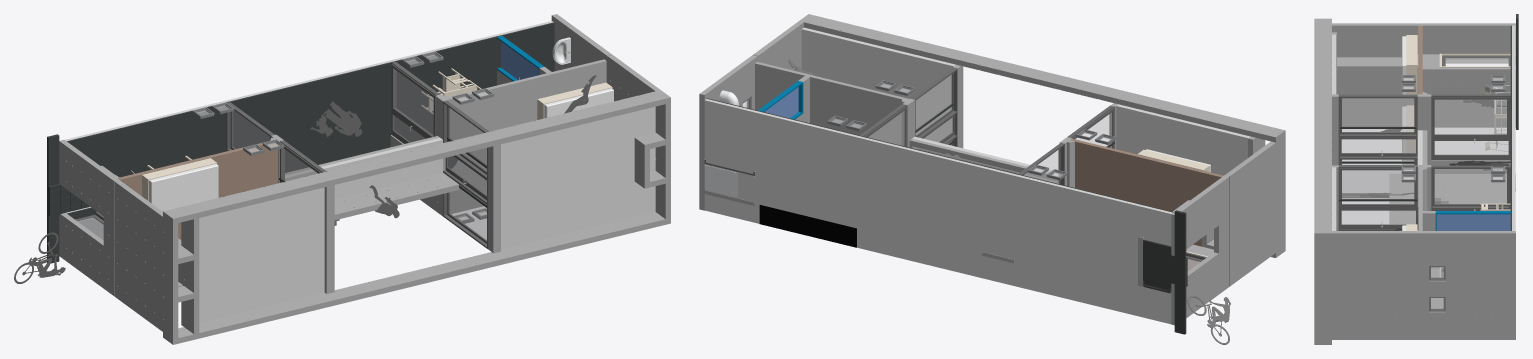
The model's file is casa.glb.
3 views of the same model, side by side, from view 1: azimuth 30°, elevation 25°; view 2: azimuth 150°, elevation 25°; view 3: azimuth 270°, elevation 25° (orthographic). The views are drawn at different scales.
Visible parts, largest first — view 1: TOITURES, NIVEAU 1, Dalle_001 (×3), NIVEAU 0, Body (×2); view 2: Dalle_001 (×3), NIVEAU 1, TOITURES, NIVEAU 0, Body; view 3: NIVEAU 0, NIVEAU 1, TOITURES, Body (×4), Dalle_001 (×3).
Boxes of the visible parts, x1,y1,x2,y2 form: TOITURES: (163, 90, 670, 344); NIVEAU 1: (115, 55, 660, 331); Dalle_001 (×3): (65, 21, 554, 239); NIVEAU 0: (14, 14, 612, 296); Body (×2): (142, 82, 613, 211); Dalle_001 (×3): (704, 98, 1173, 324); NIVEAU 1: (753, 21, 1275, 286); TOITURES: (799, 14, 1285, 257); NIVEAU 0: (699, 55, 1230, 344); Body: (1137, 149, 1210, 172); NIVEAU 0: (1417, 14, 1518, 339); NIVEAU 1: (1332, 23, 1427, 339); TOITURES: (1314, 18, 1336, 344); Body (×4): (1402, 35, 1445, 311); Dalle_001 (×3): (1510, 25, 1515, 230).
Size of the model in its own units: 15.64 by 3.61 by 5.73.
